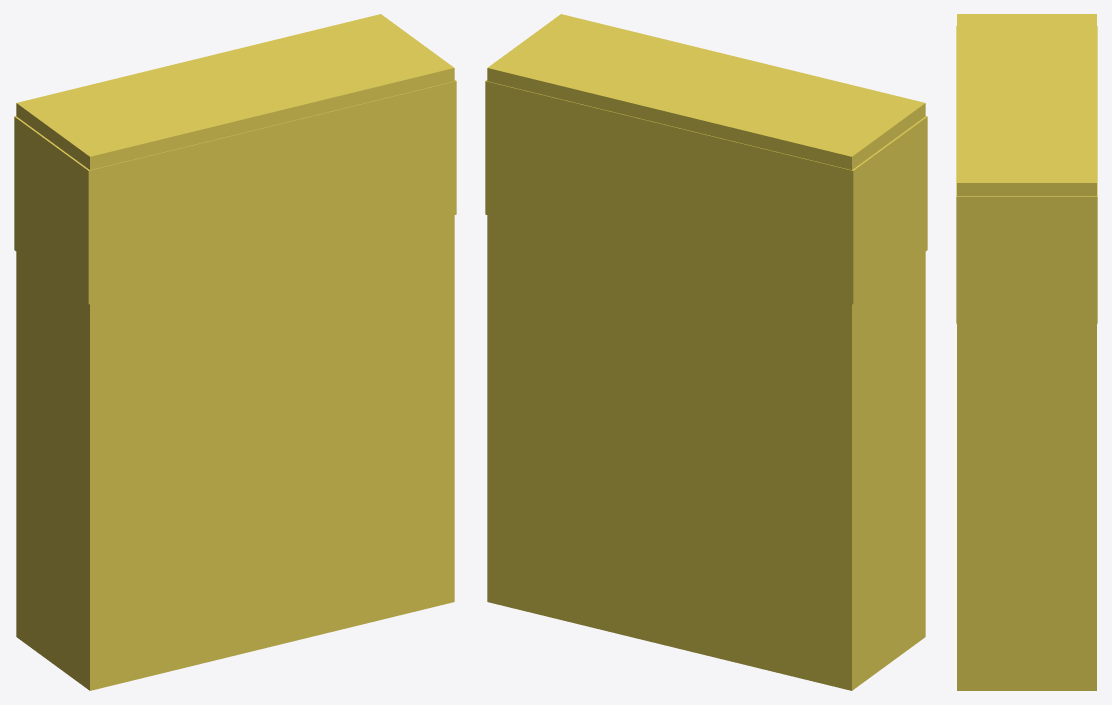
Rendered from g_cereal_box.glb.
3 views of the same model, side by side, from view 1: azimuth 30°, elevation 25°; view 2: azimuth 150°, elevation 25°; view 3: azimuth 270°, elevation 25° (orthographic). The views are drawn at different scales.
Parts seen in each view (by area): view 1: g_cereal_box; view 2: g_cereal_box; view 3: g_cereal_box.
Boxes of the visible parts, left/top/right/bottom form: g_cereal_box: left=14, top=14, right=456, bottom=690; g_cereal_box: left=485, top=14, right=927, bottom=690; g_cereal_box: left=956, top=14, right=1097, bottom=690.
Size of the model in its own units: 0.202 by 0.28 by 0.0707.
